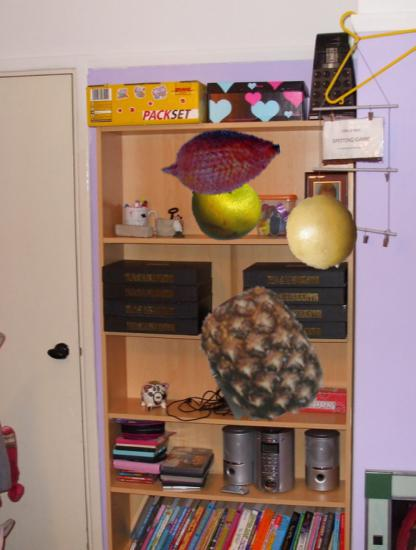Grapefruit: (284, 195, 361, 272)
Pineapple: (193, 289, 331, 427)
Pomelo: (189, 172, 262, 245)
Salak: (159, 100, 282, 223)
